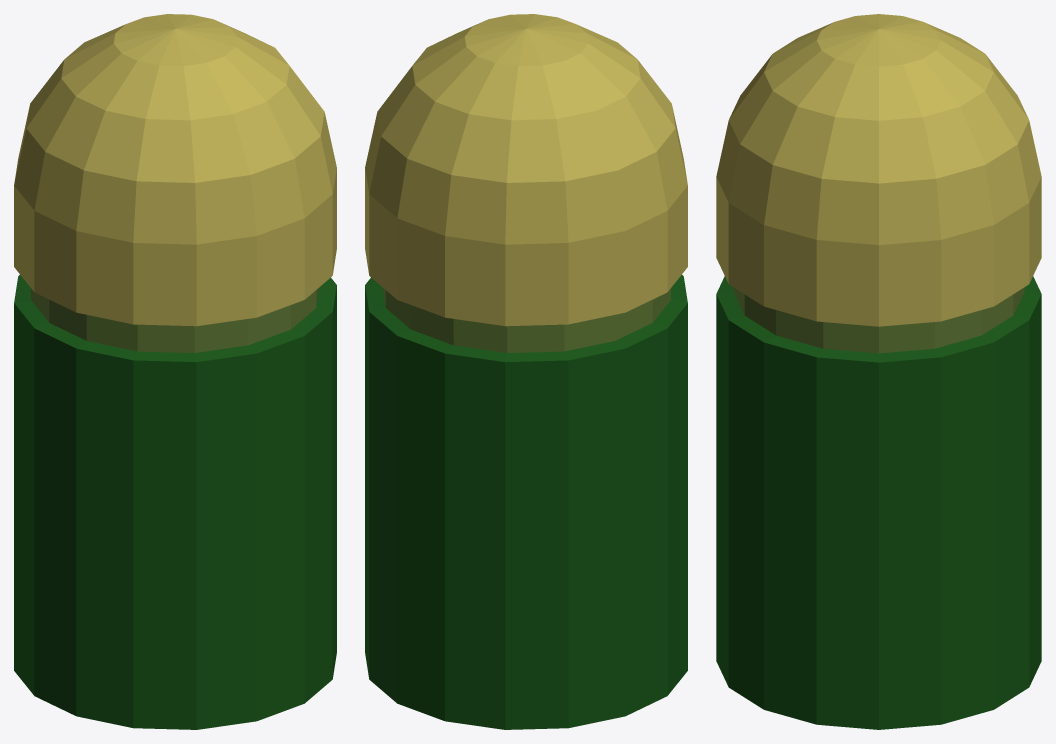
Rendered from GranadeLauncherBullet.fbx.
The picture shows the model from 3 angles, left to right: view 1: azimuth 30°, elevation 25°; view 2: azimuth 150°, elevation 25°; view 3: azimuth 270°, elevation 25°; orthographic projection.
Parts seen in each view (by area): view 1: GranadeLauncherBullet; view 2: GranadeLauncherBullet; view 3: GranadeLauncherBullet.
Part boxes in pixels (<box>): GranadeLauncherBullet: <box>14,14,336,729</box>; GranadeLauncherBullet: <box>365,14,687,729</box>; GranadeLauncherBullet: <box>716,14,1041,729</box>.
Bounding box in the file's own units: 200 × 429 × 200.
